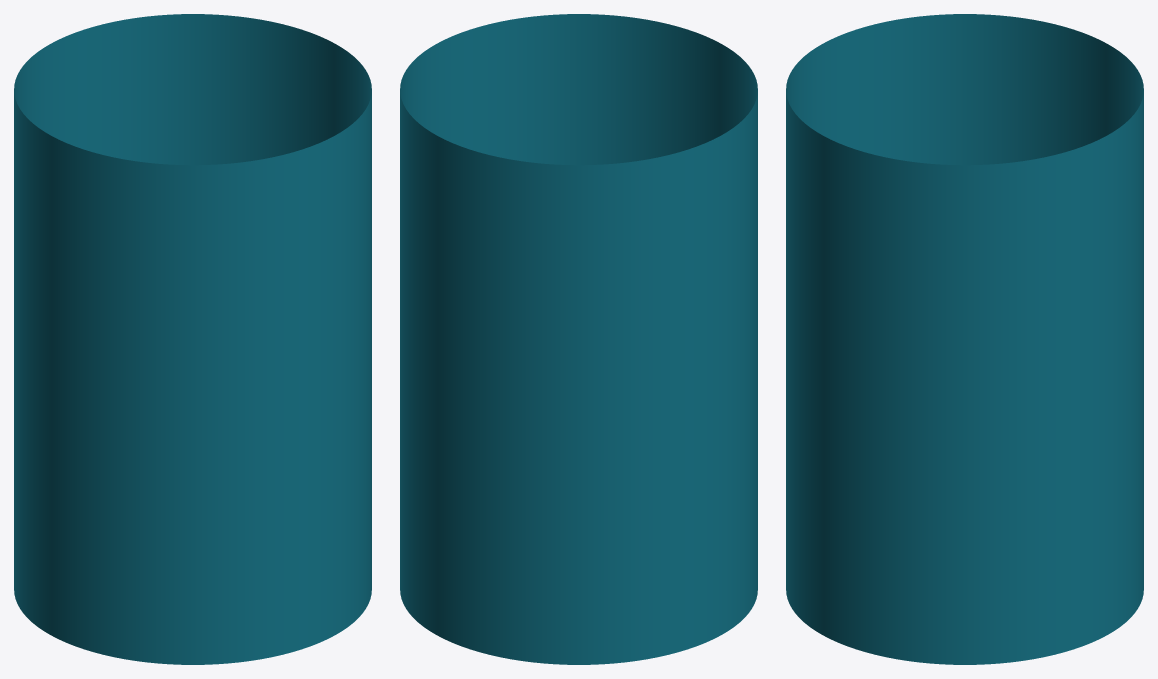
The model's file is core_glass.obj.
3 views of the same model, side by side, from view 1: azimuth 30°, elevation 25°; view 2: azimuth 150°, elevation 25°; view 3: azimuth 270°, elevation 25° (orthographic).
Visible parts, largest first — view 1: core_glass_Glass_Teal; view 2: core_glass_Glass_Teal; view 3: core_glass_Glass_Teal.
Boxes of the visible parts, <box> form: core_glass_Glass_Teal: <box>14,14,371,664</box>; core_glass_Glass_Teal: <box>400,14,757,664</box>; core_glass_Glass_Teal: <box>786,14,1143,664</box>.
Bounding box in the file's own units: 2.55 × 3.93 × 2.55.
